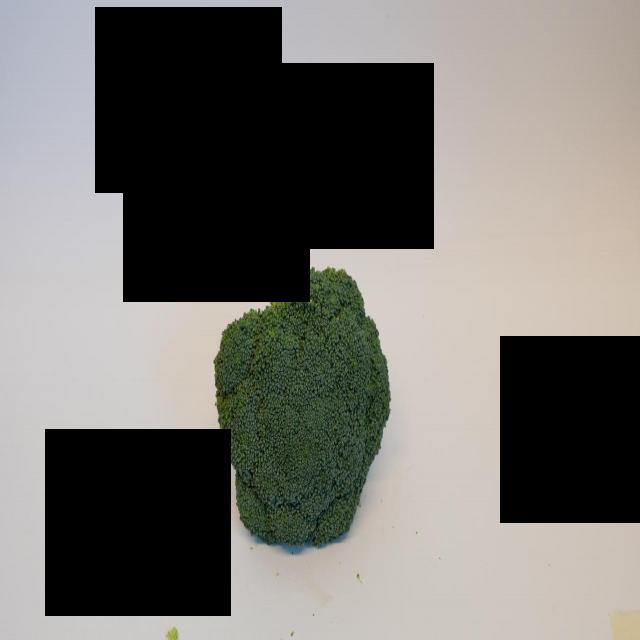broccoli: (212, 263, 392, 551)
